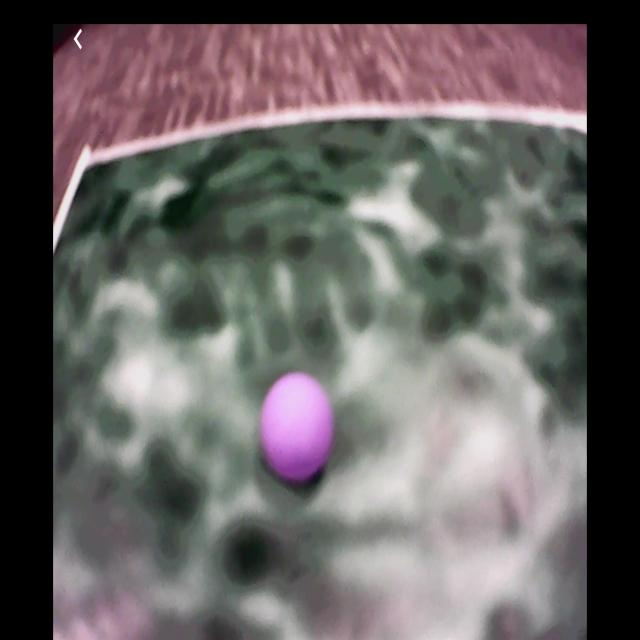ball: (261, 373, 336, 484)
